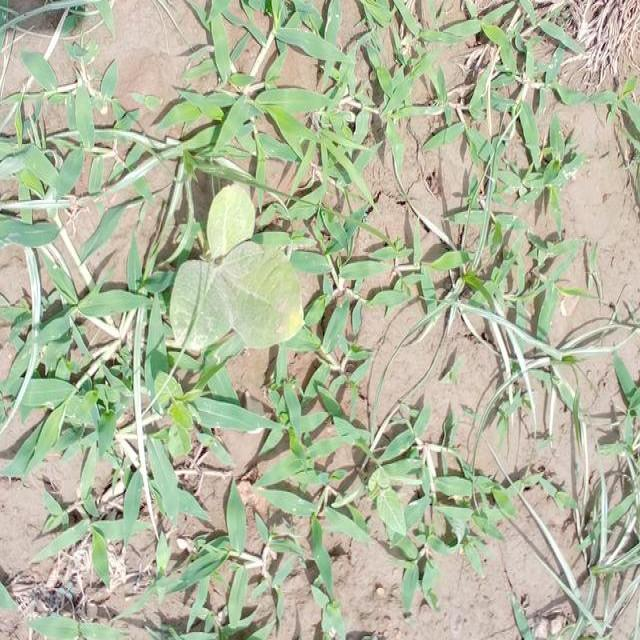crop: (168, 180, 304, 363)
